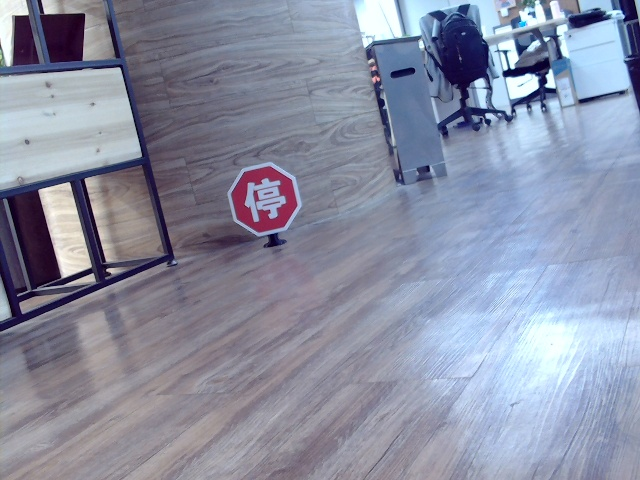stop: (242, 177, 285, 220)
